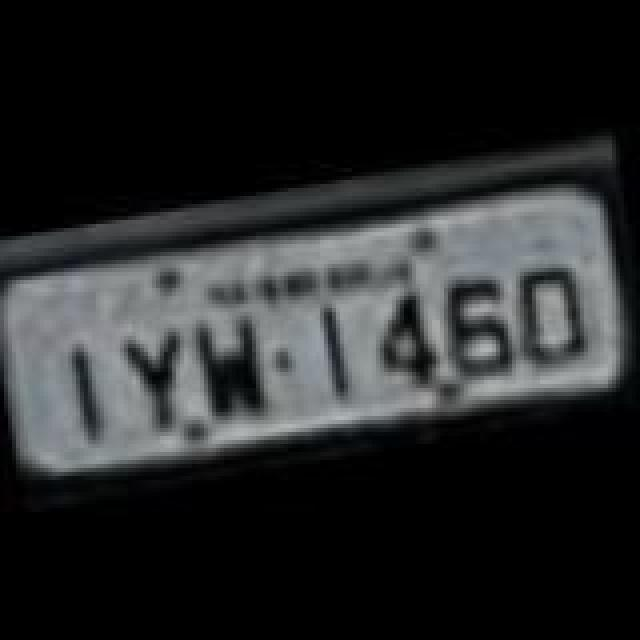1: (310, 302, 358, 402), (68, 336, 108, 440)
4: (364, 278, 448, 390)
6: (442, 272, 522, 380)
O: (508, 260, 592, 372)
W: (190, 314, 270, 426)
Y: (124, 322, 196, 434)
